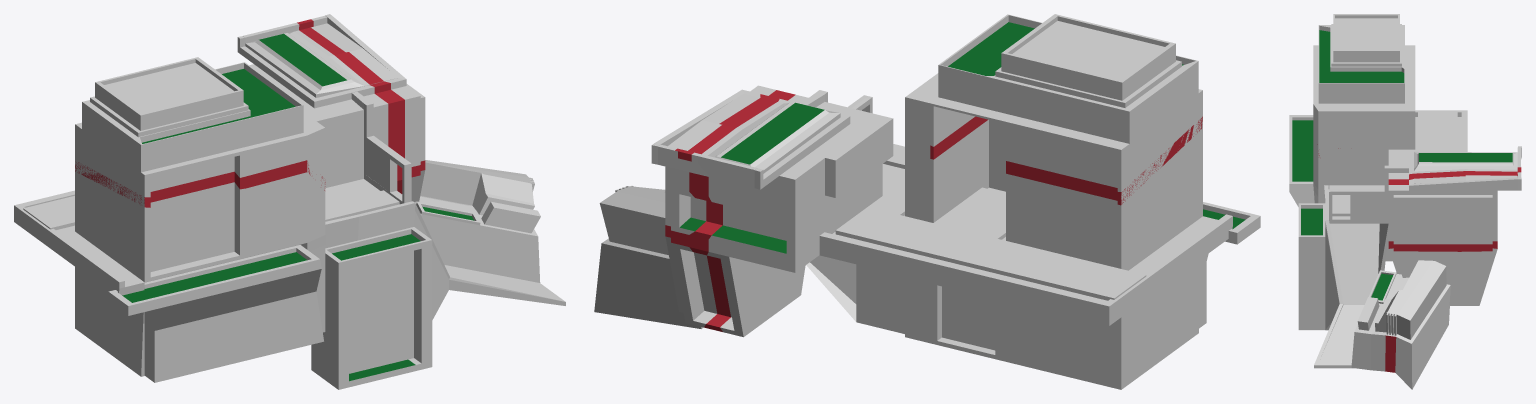
File: Module00_Color.fbx
3 views of the same model, side by side, from view 1: azimuth 30°, elevation 25°; view 2: azimuth 150°, elevation 25°; view 3: azimuth 270°, elevation 25° (orthographic). The views are drawn at different scales.
Visible parts, largest first — view 1: Cube.001, Cube; view 2: Cube.001, Cube; view 3: Cube.001, Cube.
Boxes of the visible parts, box(x1,y1,x2,y2) form: Cube.001: box(14, 14, 565, 389); Cube: box(23, 190, 399, 229); Cube.001: box(594, 14, 1260, 389); Cube: box(835, 144, 1146, 300); Cube.001: box(1289, 14, 1521, 389); Cube: box(1329, 110, 1457, 216).
Size of the model in its own units: 1074 by 636 by 609.
